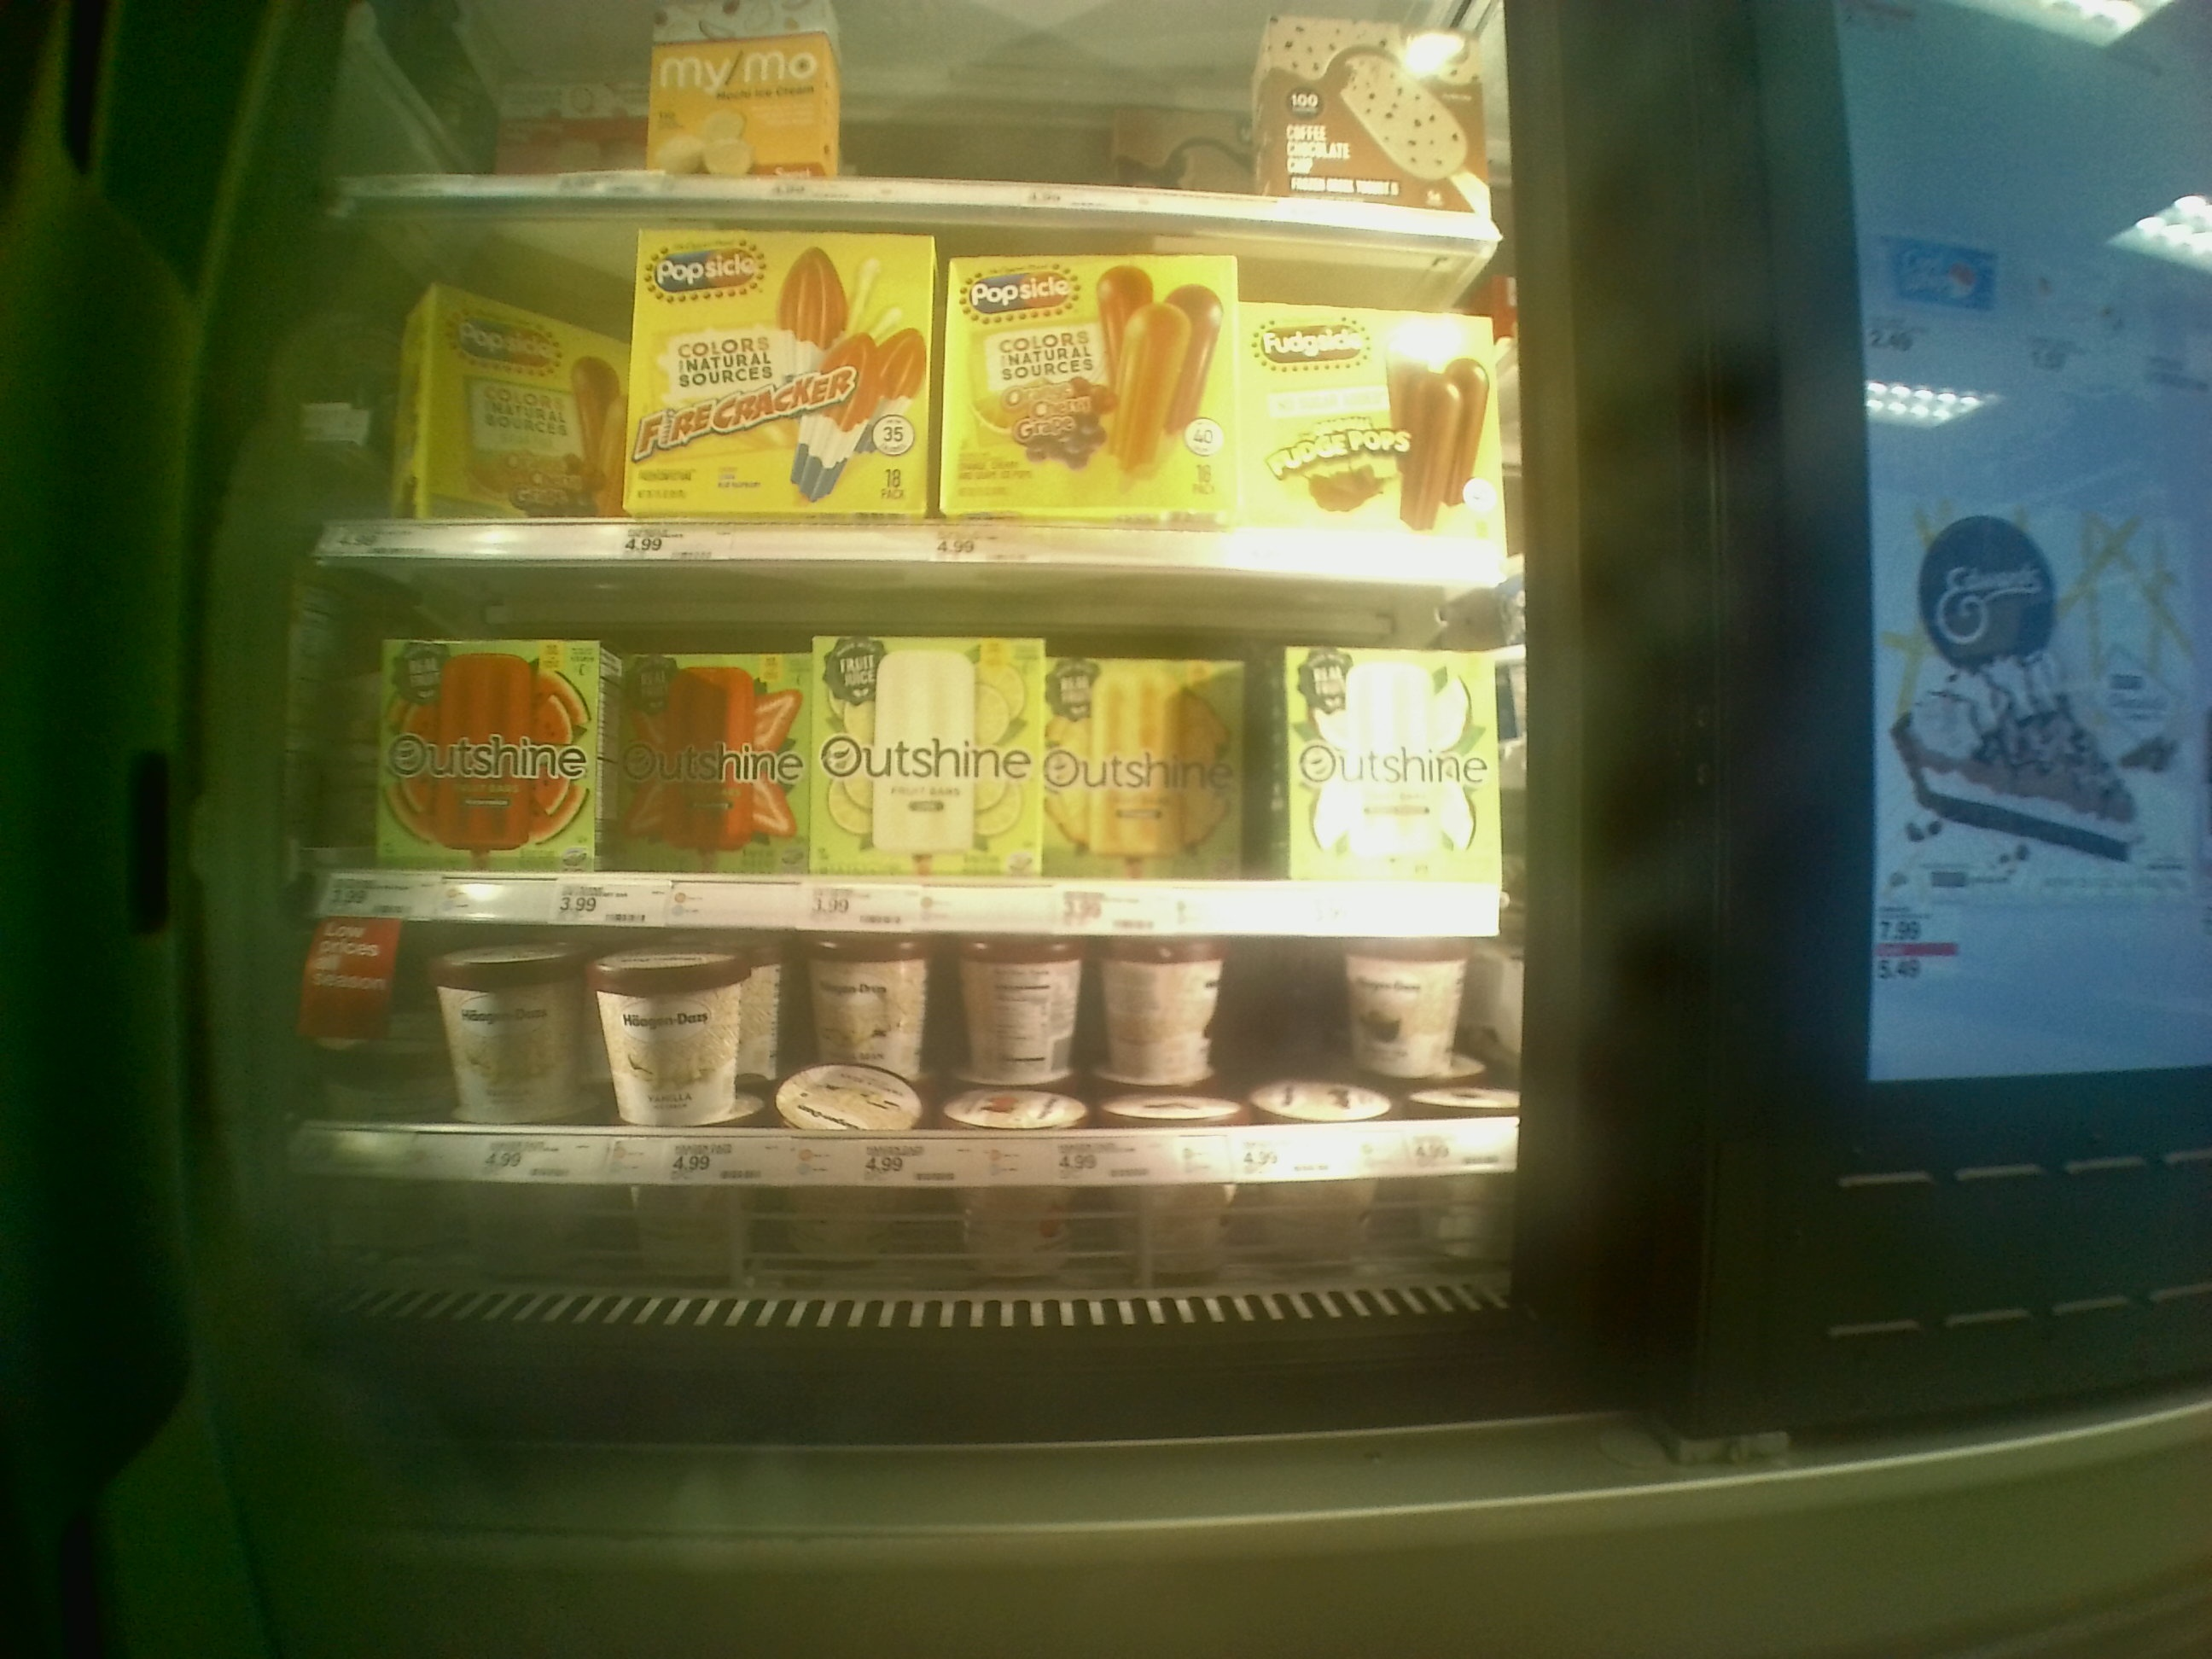ice-cream-shelf: (315, 566, 1526, 924), (324, 204, 1514, 558), (308, 924, 1515, 1173)
